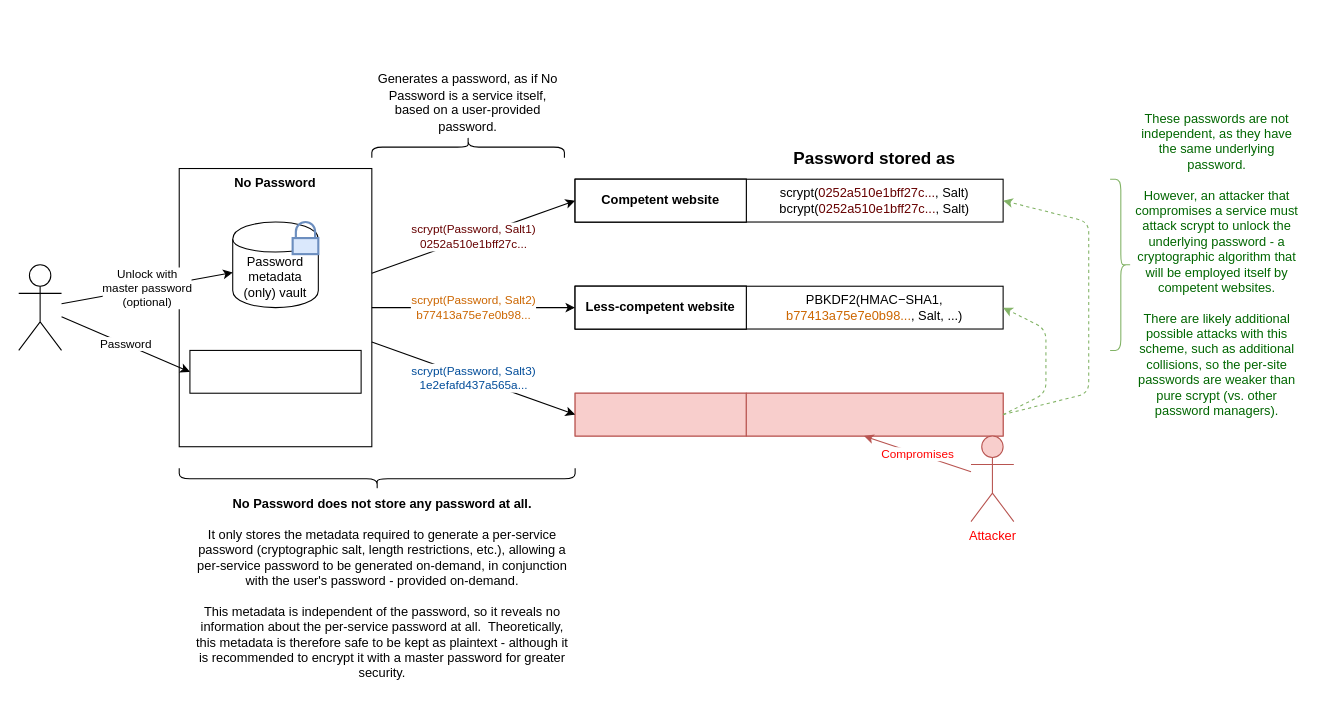
The diagram is 1321 pixels wide and 710 high, and some of its shapes have lost their labels. Here are the shapes that lost their labels. From the top down, the centre of each, then its label:
At (x=40, y=307): "User".
At (x=275, y=371): "User-provided password".
At (x=660, y=414): "Dubious website".
At (x=874, y=414): "1e2efafd437a565a... (as plaintext) MD5( 1e2efafd437a565a... )".
